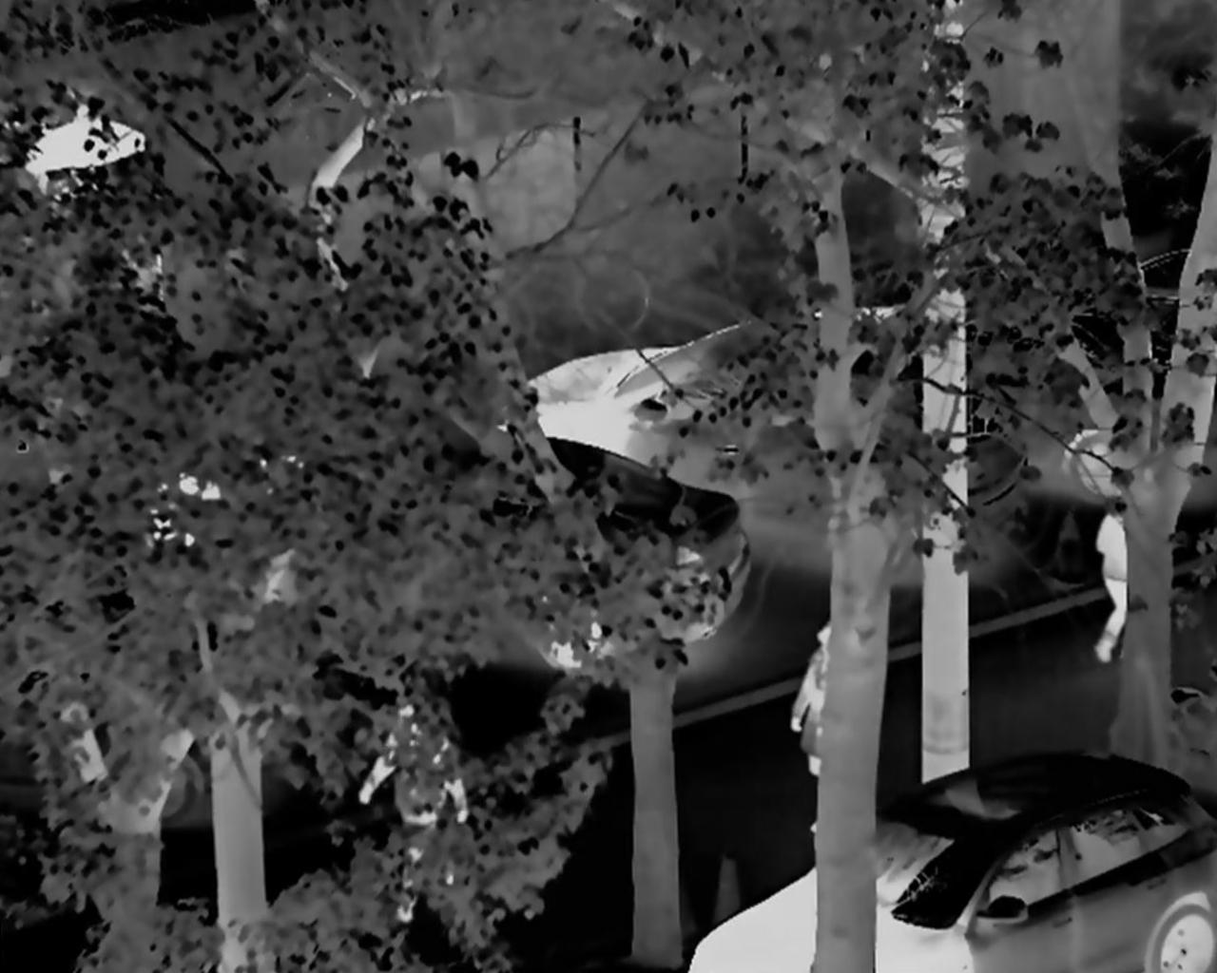person: (349, 699, 473, 929), (780, 614, 866, 836), (1078, 459, 1155, 684)
